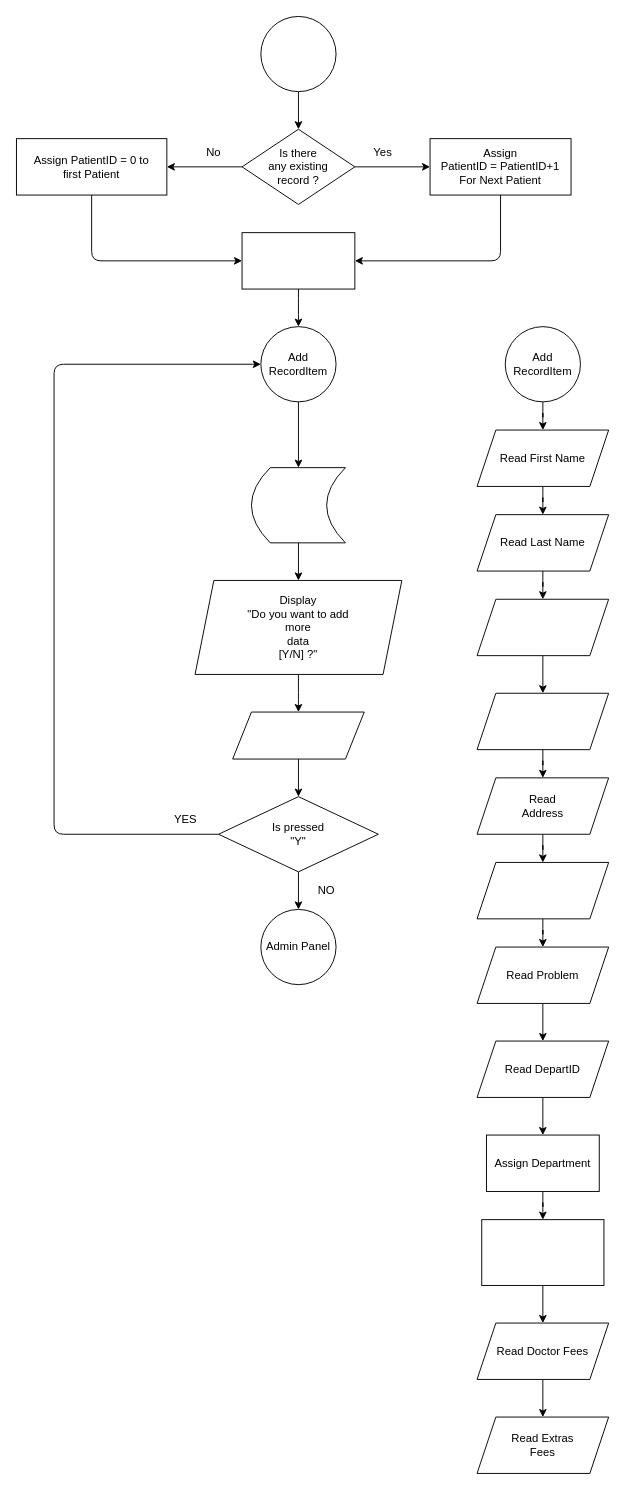
Image size: 625x1490. Some labels were removed from this diagram. Here are the shapes that lost their labels. From the top down, the centre of each, then its label:
At [298,54]: "Add Patient".
At [298,260]: "Assign Current Date".
At [298,505]: "Save Data".
At [542,627]: "Read Age".
At [298,735]: "Read input".
At [542,721]: "Read Phone Number".
At [542,890]: "Read Gender".
At [542,1252]: "Assign Doctor From Same Department".
